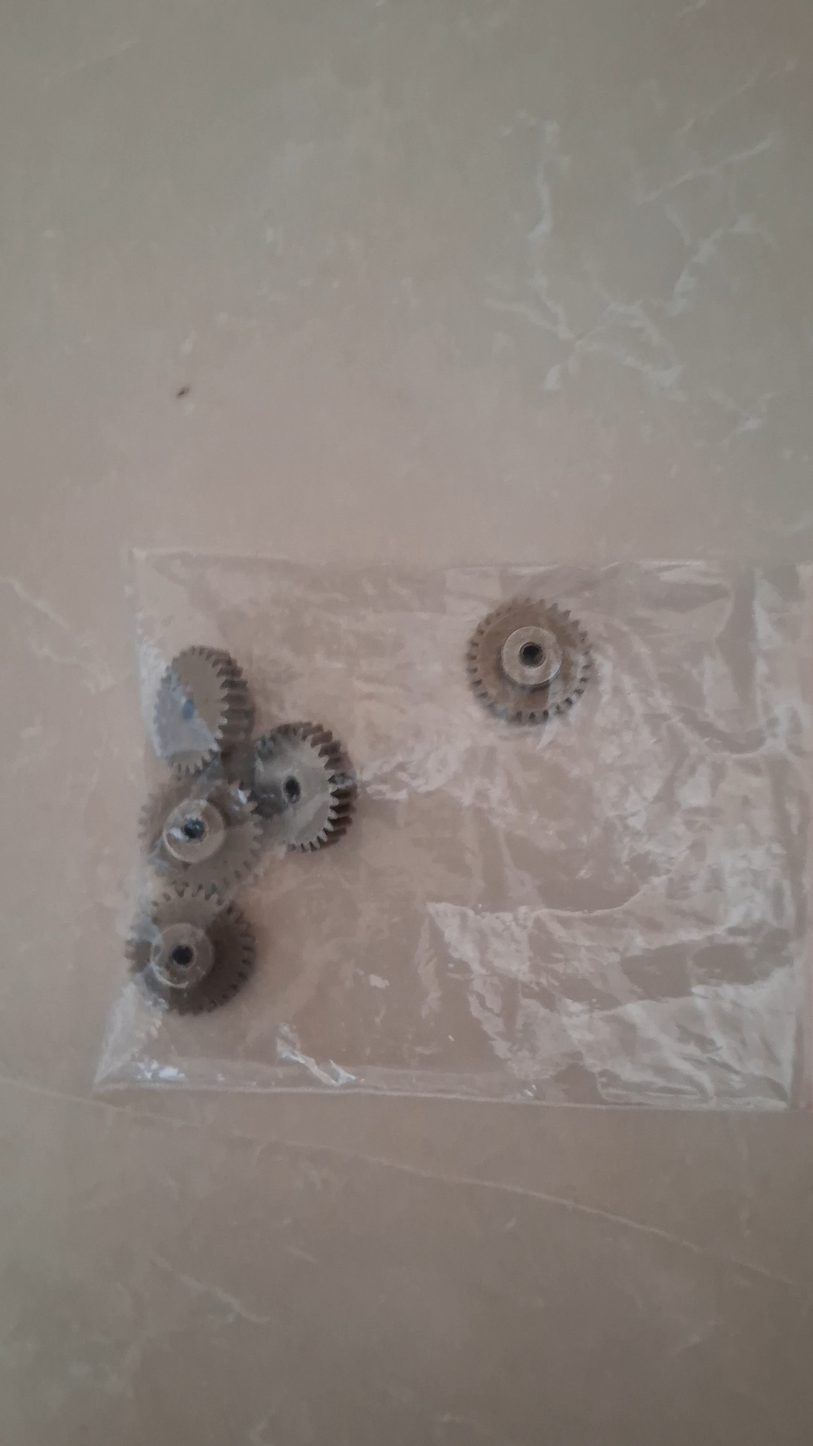spur gear: (126, 886, 254, 1014), (467, 598, 591, 723), (140, 777, 261, 899), (245, 722, 355, 851), (154, 646, 253, 776)
